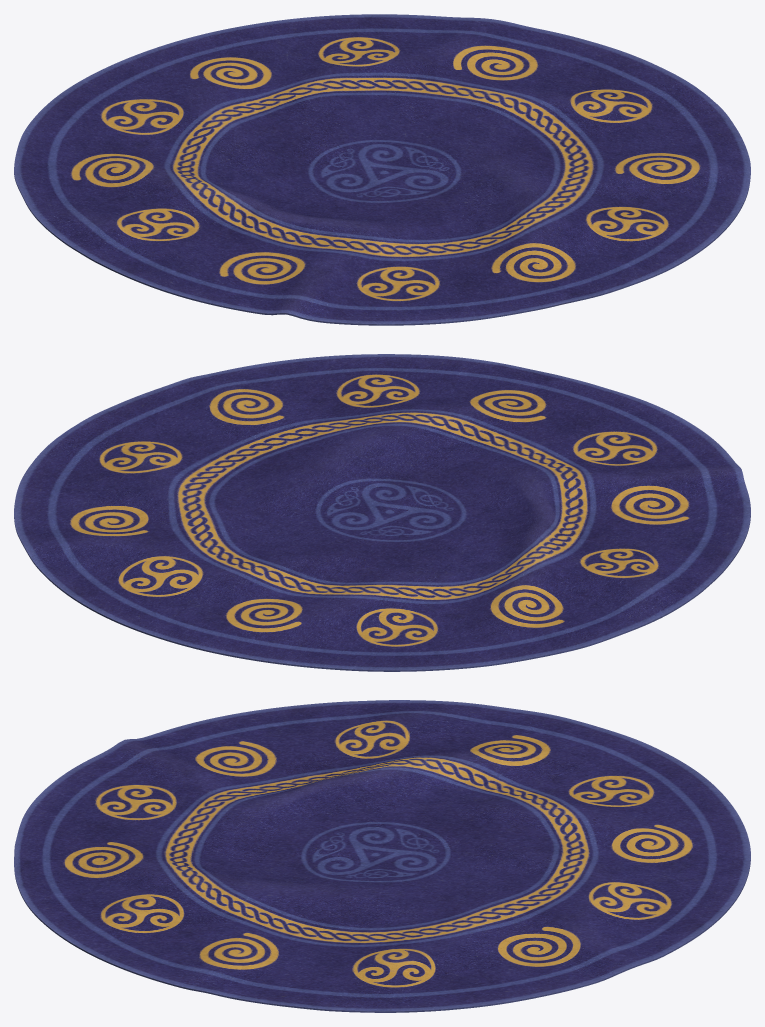
File: carpet.glb
3 renders of one model, top to bottom at view 1: azimuth 30°, elevation 25°; view 2: azimuth 150°, elevation 25°; view 3: azimuth 270°, elevation 25°, orthographic.
Visible parts, largest first — view 1: LC; view 2: LC; view 3: LC.
Boxes of the visible parts, x1,y1,x2,y2 form: LC: [14, 14, 750, 325]; LC: [14, 354, 750, 671]; LC: [14, 700, 750, 1012].
Size of the model in its own units: 14.94 by 0.3085 by 14.94.
1 material, 1 textured.
